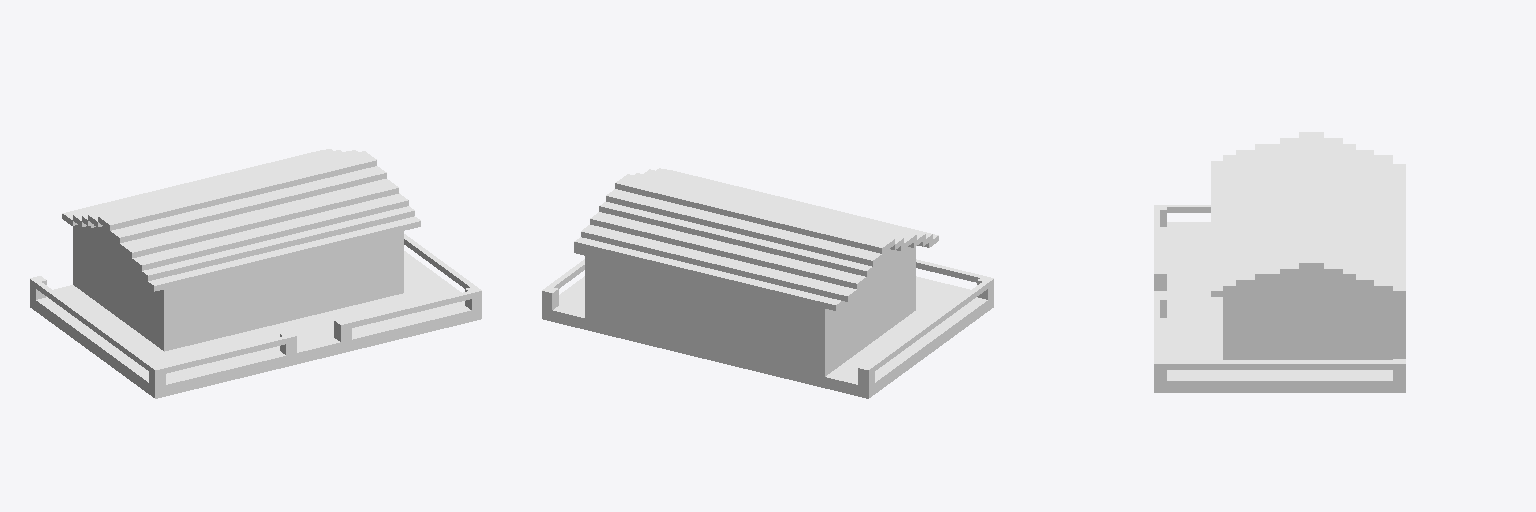
Rendered from Barn.vox.obj.
3 views of the same model, side by side, from view 1: azimuth 30°, elevation 25°; view 2: azimuth 150°, elevation 25°; view 3: azimuth 270°, elevation 25° (orthographic).
Visible parts, largest first — view 1: object 1; view 2: object 1; view 3: object 1.
Boxes of the visible parts, x1,y1,x2,y2 form: object 1: [30, 149, 481, 398]; object 1: [542, 168, 993, 398]; object 1: [1154, 132, 1405, 392].
Bounding box in the file's own units: 6 × 2 × 4.